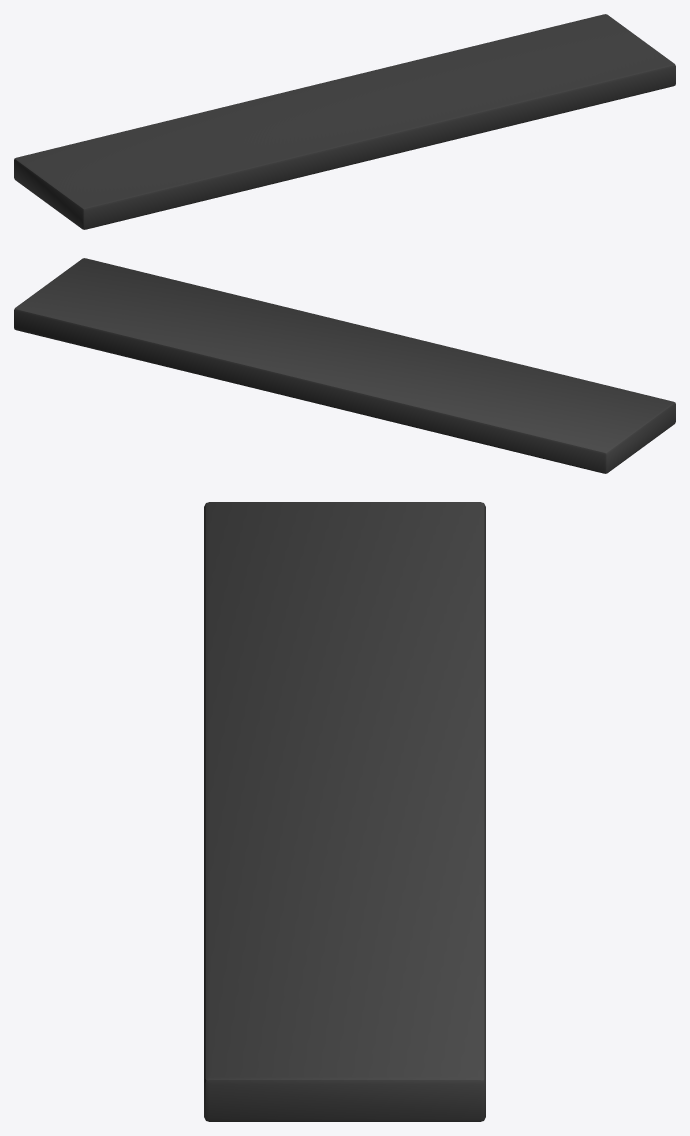
Rendered from sp_shelves_bathroom_a.fbx.
The picture shows the model from 3 angles, top to bottom: view 1: azimuth 30°, elevation 25°; view 2: azimuth 150°, elevation 25°; view 3: azimuth 270°, elevation 25°; orthographic projection. The views are drawn at different scales.
Visible parts, largest first — view 1: sp_shelves_bathroom_a; view 2: sp_shelves_bathroom_a; view 3: sp_shelves_bathroom_a.
Part boxes in pixels (bbox=[...]): sp_shelves_bathroom_a: bbox=[14, 14, 675, 229]; sp_shelves_bathroom_a: bbox=[14, 258, 675, 473]; sp_shelves_bathroom_a: bbox=[204, 502, 485, 1121].
Size of the model in its own units: 175 by 6.3 by 36.
